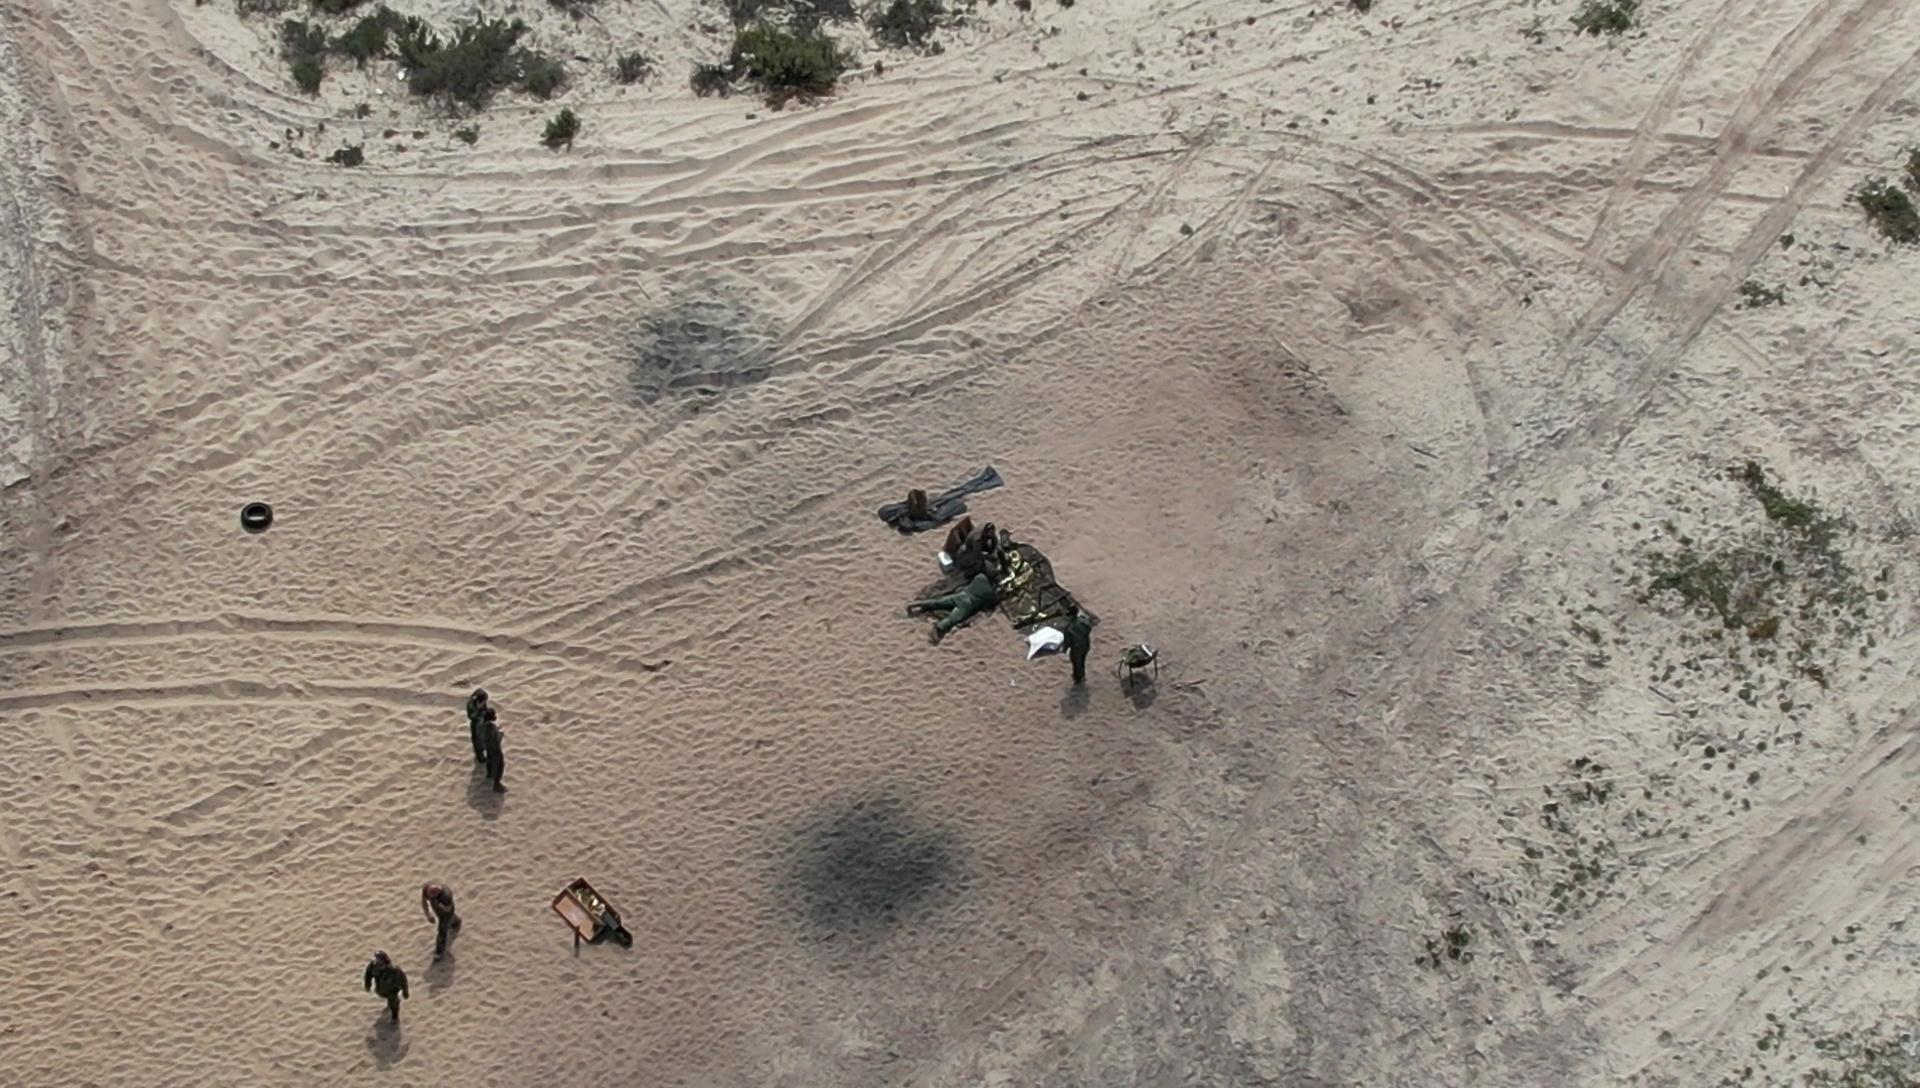Soldier: (927, 539, 1022, 624), (419, 856, 469, 971), (1058, 595, 1098, 695), (361, 948, 411, 1026), (945, 524, 1005, 580), (465, 707, 508, 783)
